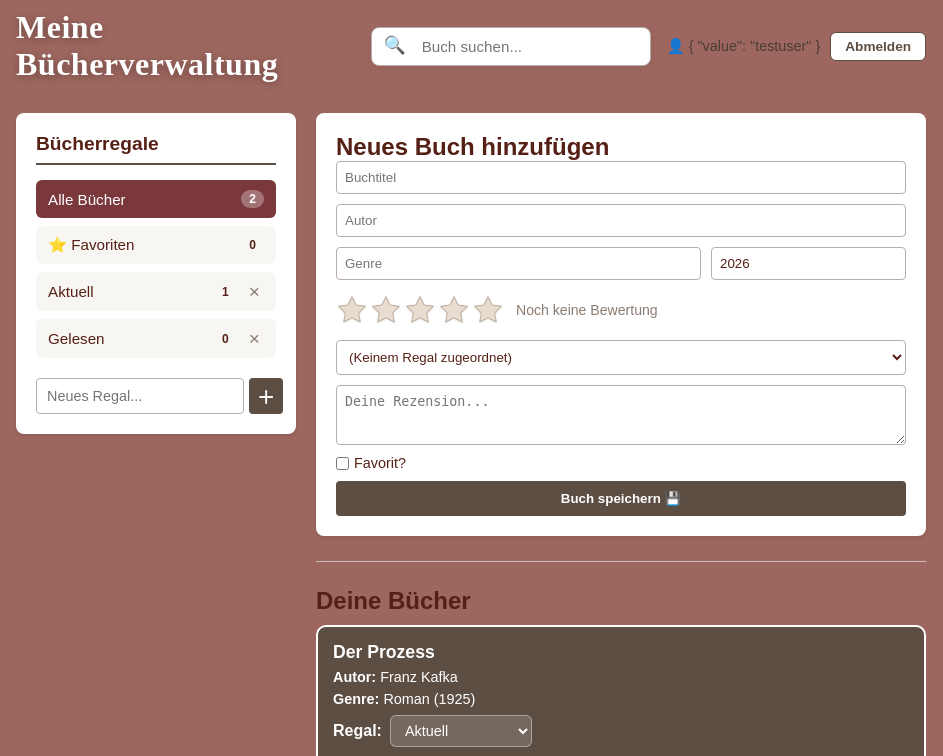
BooksView › filtert Bücher nach Suchbegriff
The image size is (943, 756).
Type "Faust" into the field with class "search-input".
click(534, 46); type("Faust")  # box [418,28,650,64]
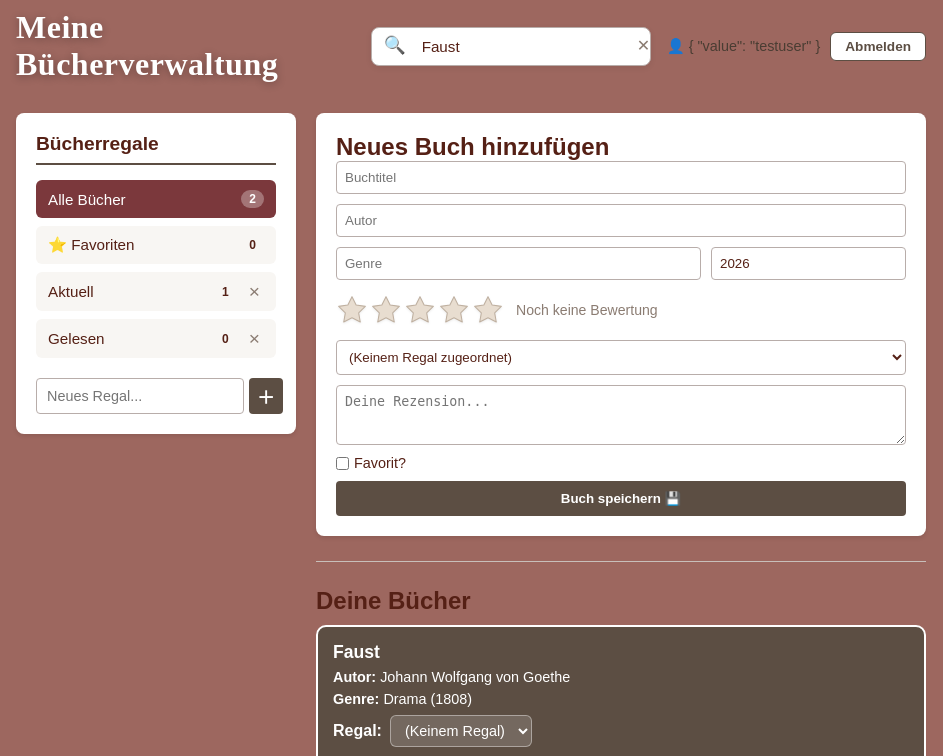
expect the text "Faust" is shown: met, box [333,642,380,663]
expect the text "Der Prozess" is gone: met
